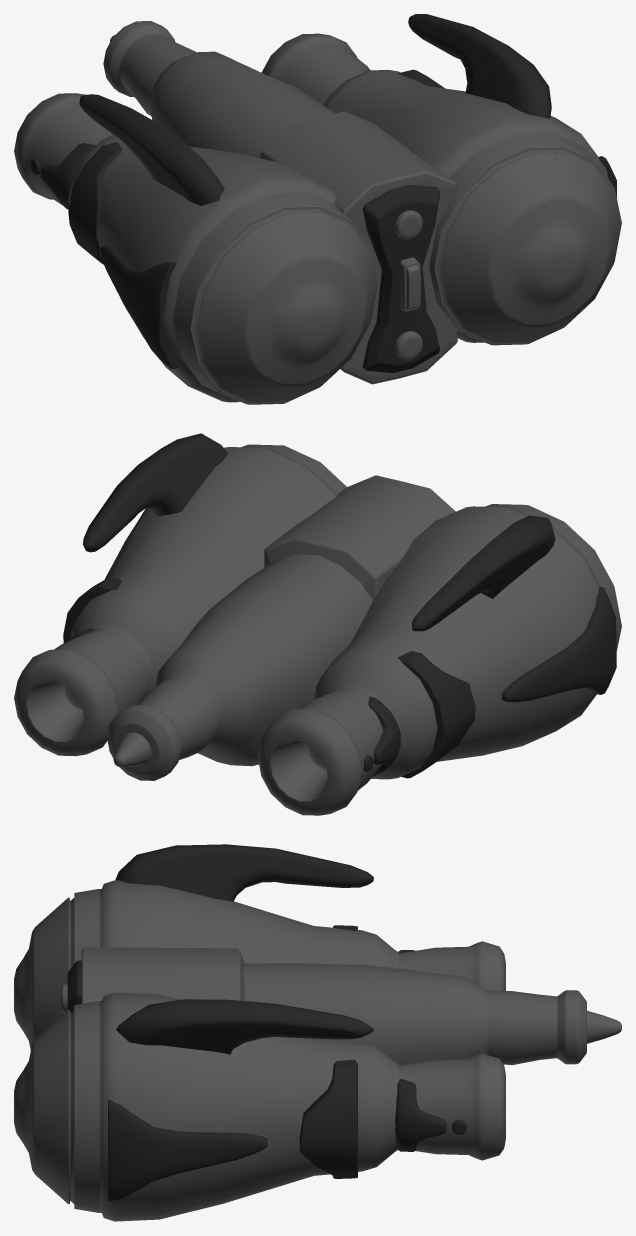
Rendered from _Small_kamikaze_drone.fbx.
3 renders of one model, top to bottom at view 1: azimuth 30°, elevation 25°; view 2: azimuth 150°, elevation 25°; view 3: azimuth 270°, elevation 25°, orthographic. The views are drawn at different scales.
Visible parts, largest first — view 1: Small_kamikaze_drone; view 2: Small_kamikaze_drone; view 3: Small_kamikaze_drone.
Part boxes in pixels (x1,y1,x2,y2): Small_kamikaze_drone: [14, 14, 621, 404]; Small_kamikaze_drone: [14, 433, 621, 815]; Small_kamikaze_drone: [14, 844, 621, 1221].
Size of the model in its own units: 287 by 145 by 345.
1 material, 1 textured.
